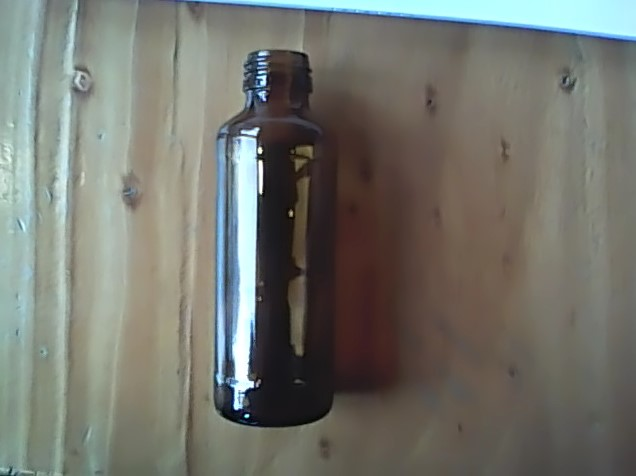Glass: (209, 44, 340, 432)
